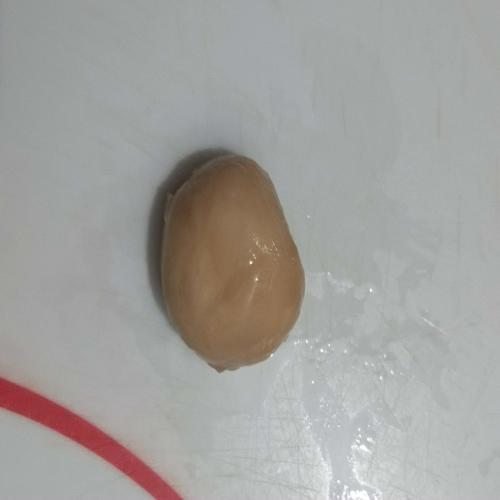Button Mushroom: (130, 144, 325, 383)
